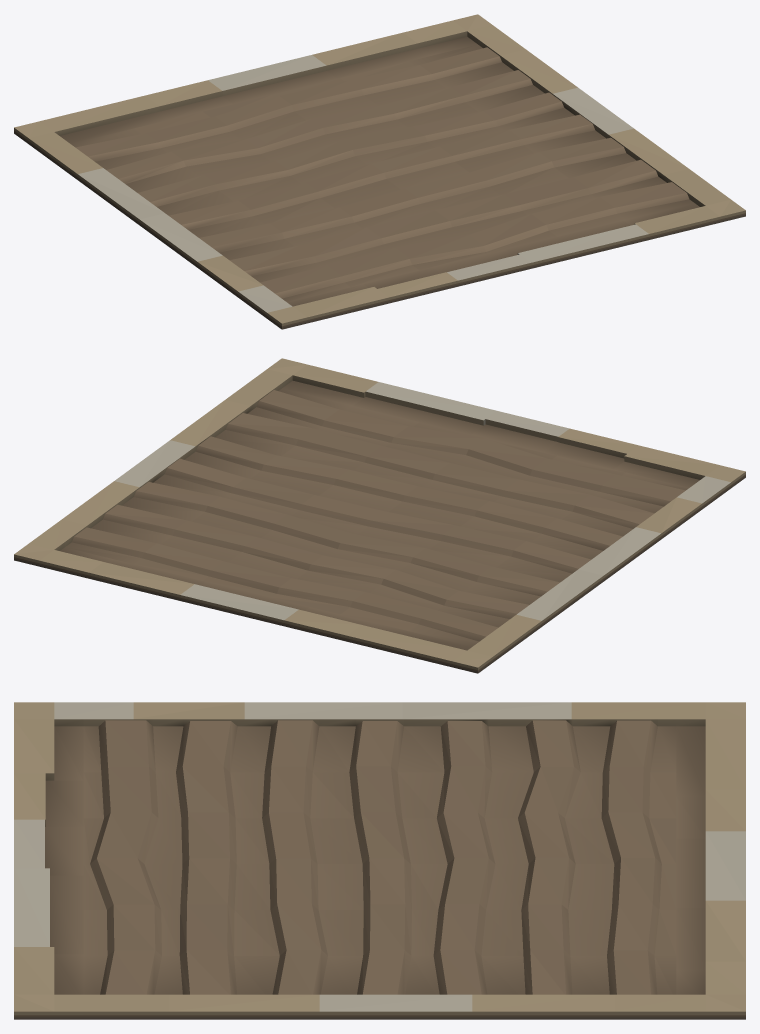
The model's file is t_veg.glb.
3 renders of one model, top to bottom at view 1: azimuth 30°, elevation 25°; view 2: azimuth 150°, elevation 25°; view 3: azimuth 270°, elevation 25°, orthographic. The views are drawn at different scales.
Visible parts, largest first — view 1: t_veg; view 2: t_veg; view 3: t_veg.
Boxes of the visible parts, x1=… form: t_veg: x1=14, y1=14, x2=745, y2=329; t_veg: x1=14, y1=358, x2=745, y2=673; t_veg: x1=14, y1=702, x2=745, y2=1019.
Size of the model in its own units: 4 by 0.05 by 4.
